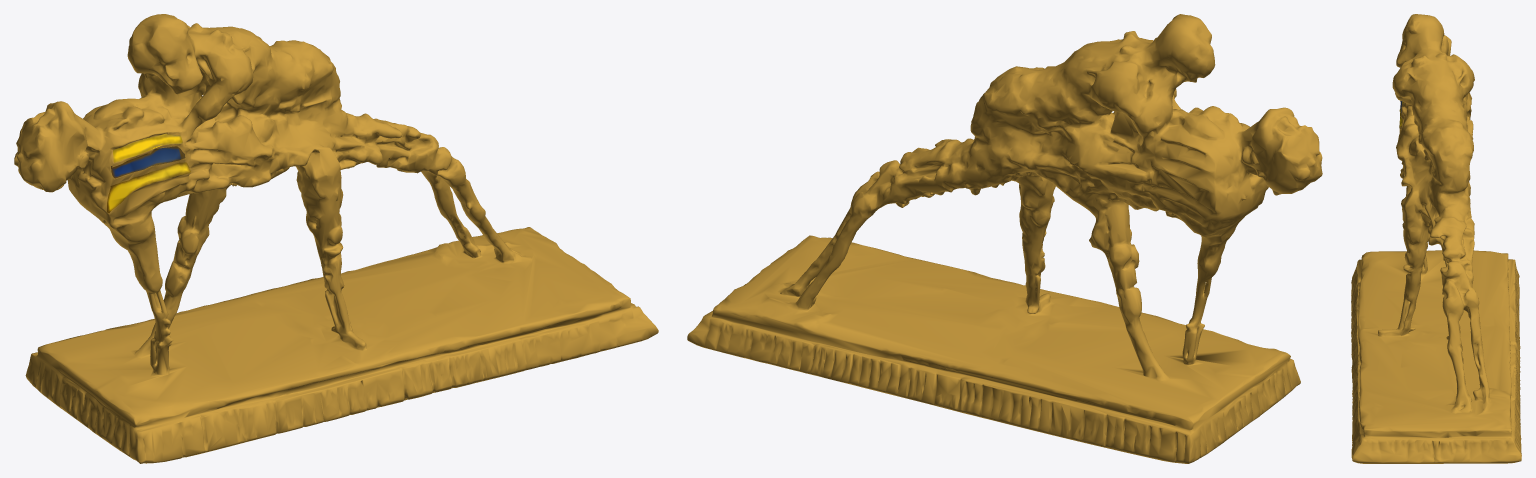
File: Statua_Cantonieri_1a5.glb
3 views of the same model, side by side, from view 1: azimuth 30°, elevation 25°; view 2: azimuth 150°, elevation 25°; view 3: azimuth 270°, elevation 25° (orthographic). The views are drawn at different scales.
Parts seen in each view (by area): view 1: Statua; view 2: Statua; view 3: Statua.
Part boxes in pixels (x1,y1,x2,y2): Statua: (14, 14, 658, 463); Statua: (687, 14, 1322, 463); Statua: (1351, 14, 1521, 463).
Bounding box in the file's own units: 1.01 × 0.6551 × 0.3459.
Materials: 4 (3 with a texture image).
